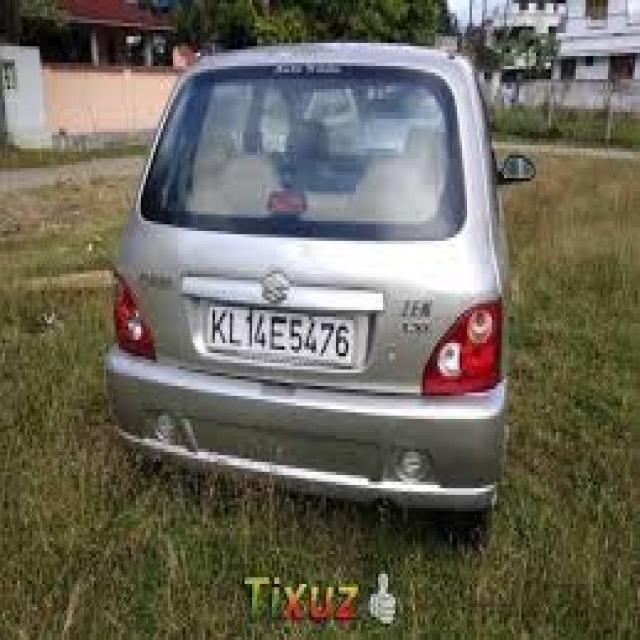Number-Plate: (208, 303, 358, 365)
